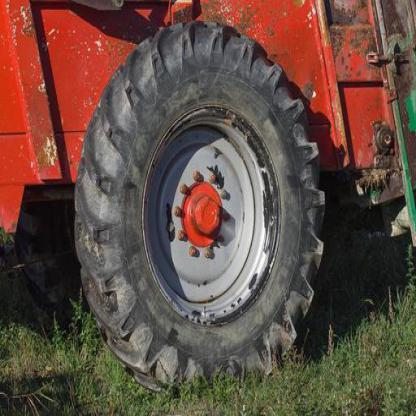Tire: (72, 17, 328, 396)
